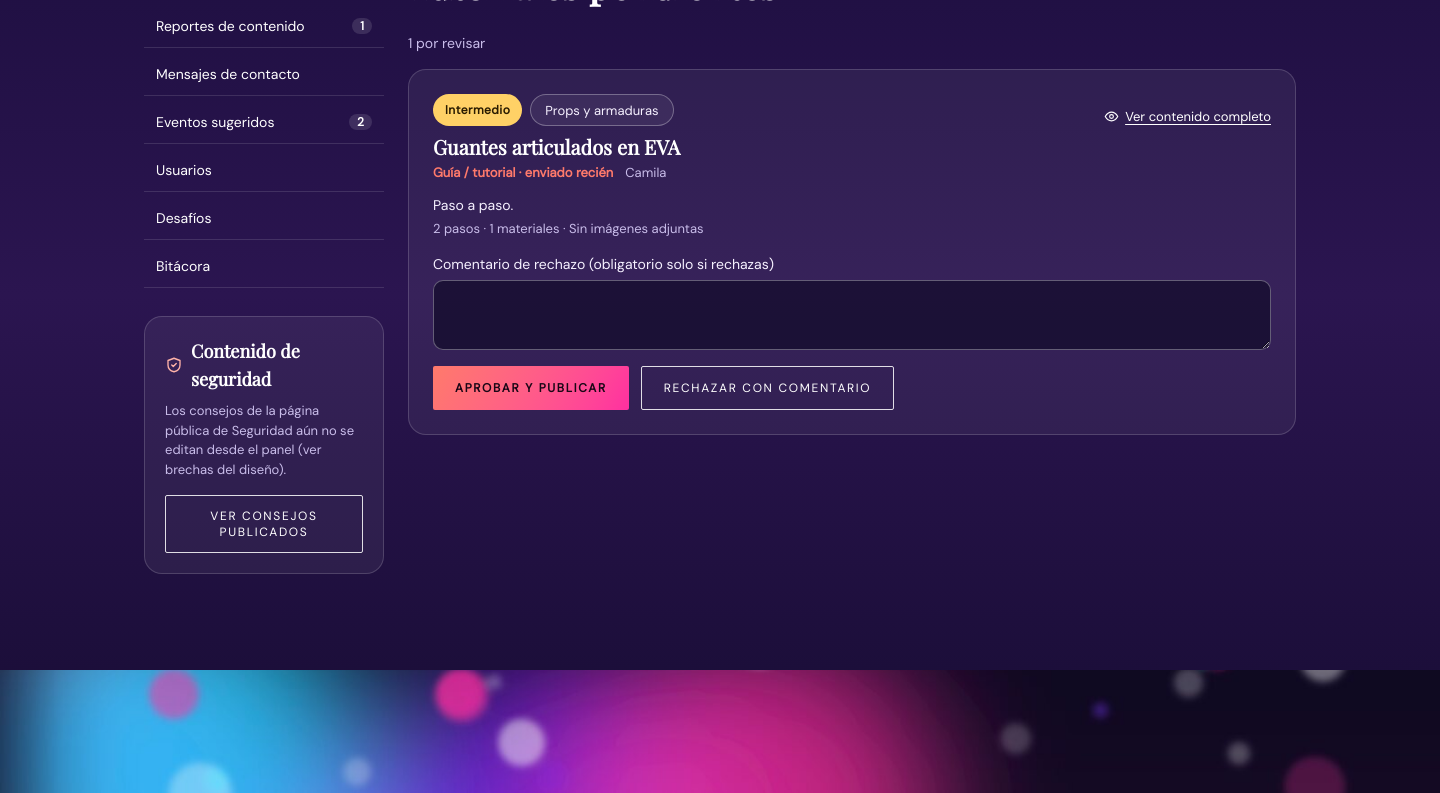
Panel de moderación › aprueba y publica un tutorial pendiente (UC6)
(page scrolled)
expect the heading "Guantes articulados en EVA" is shown: met, box [433, 134, 680, 160]
expect the text "2 pasos · 1 materiales · Sin imágenes adjuntas" is shown: met, box [433, 220, 704, 237]
Step 1. Click the button "Aprobar y publicar" → [531, 388], box [433, 366, 629, 410]
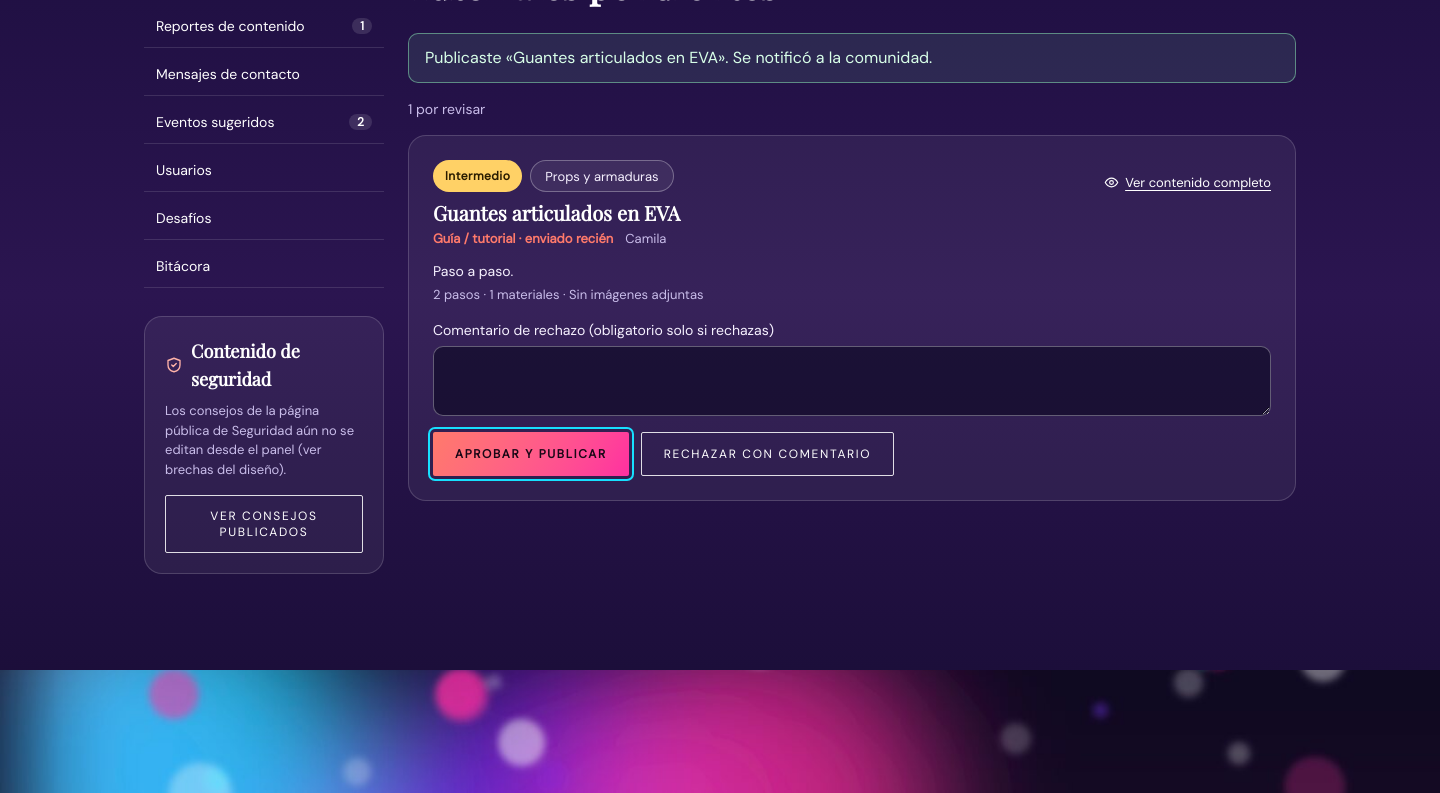
expect the text "Publicaste «Guantes articulados en EVA». Se notificó a la comunidad." is shown: met, box [408, 34, 1296, 84]
